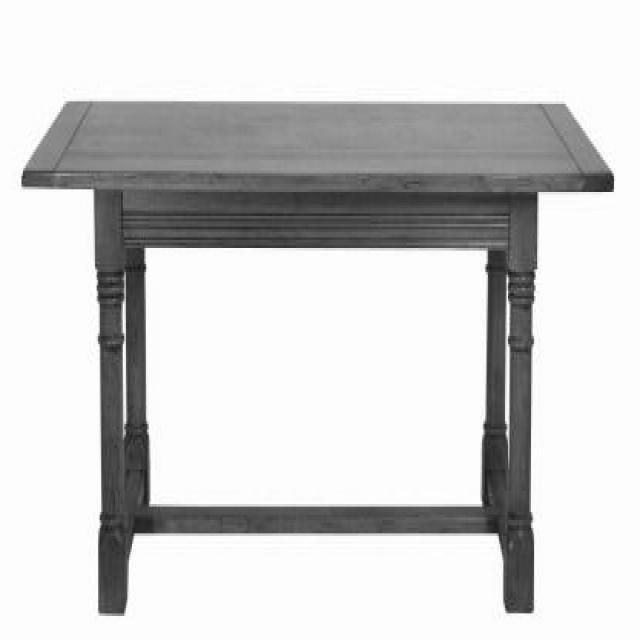table: (21, 98, 616, 614)
